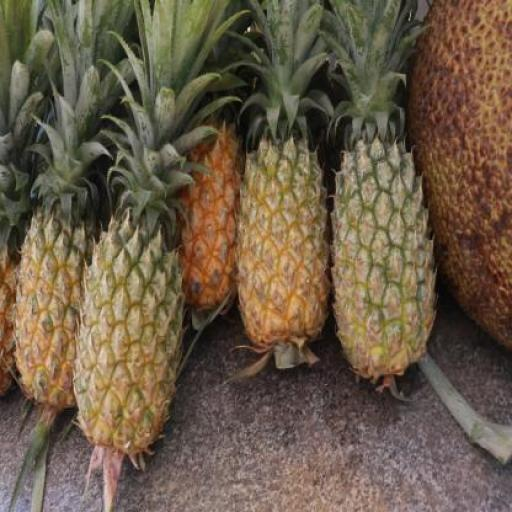------------------------------: (78, 222, 183, 444)
Pineapple - v8 v1: (239, 136, 331, 339), (15, 215, 95, 410), (181, 122, 247, 316)
